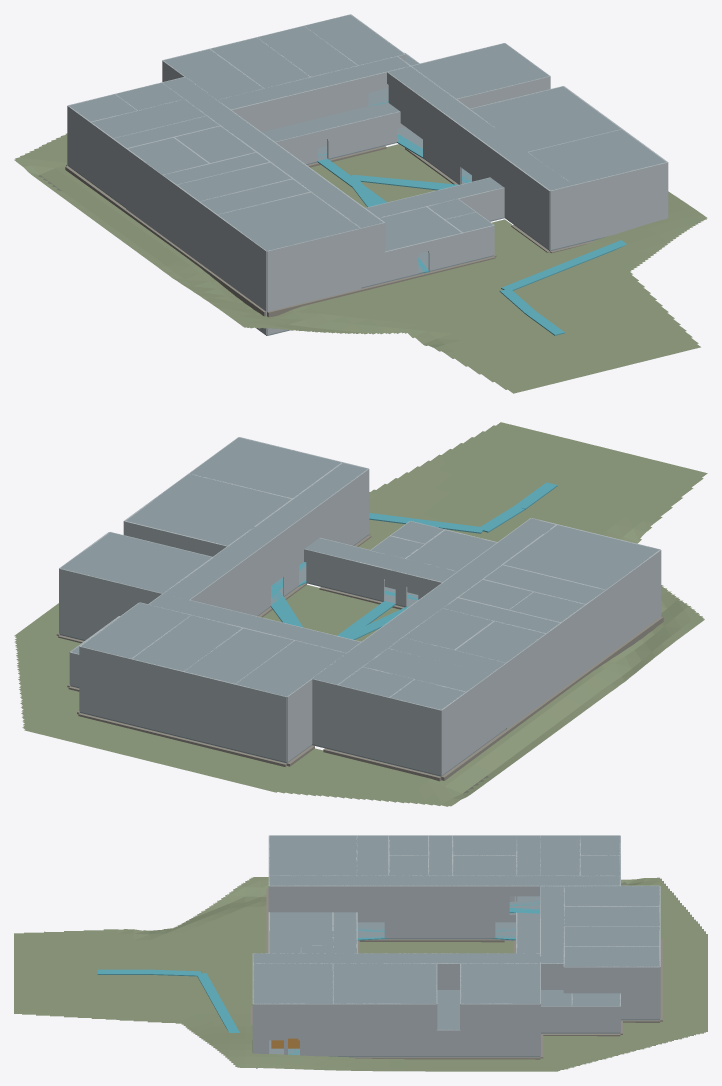
Rendered from open-circulation.glb.
The picture shows the model from 3 angles, top to bottom: view 1: azimuth 30°, elevation 25°; view 2: azimuth 150°, elevation 25°; view 3: azimuth 270°, elevation 25°; orthographic projection. The views are drawn at different scales.
Visible parts, largest first — view 1: Saved editor macroterrain ACADEMY, Ceiling cap study, Flat route shell Wall upper-east W, Ceiling cap upper-west, Ceiling cap upper-main-stair, Ceiling cap restricted, Ceiling cap upper-east-stair, Flat route shell Wall upper-north S, Ceiling cap upper-east, Wall upper-main-stair S, Wall upper-east-stair S, Wall main-stair S (+44 smaller); view 2: Saved editor macroterrain ACADEMY, Ceiling cap study, Ceiling cap upper-west, Flat route shell Wall upper-east W, Ceiling cap upper-main-stair, Ceiling cap restricted, Ceiling cap upper-east-stair, Ceiling cap upper-east, Ceiling cap dorm-1, Ceiling cap dorm-3, Ceiling cap dorm-4, Ceiling cap dorm-2 (+51 smaller); view 3: Saved editor macroterrain ACADEMY, Flat route shell Wall upper-west E.001, Ceiling cap study, Ceiling cap upper-main-stair, Flat route shell Wall west E.001, Ceiling cap upper-west, Ceiling cap restricted, Ceiling cap upper-east-stair, Ceiling cap upper-east, Wall study E, Wall lecture E, Wall dorm-4 E (+34 smaller).
Boxes of the visible parts, bbox=[...] form: Saved editor macroterrain ACADEMY: bbox=[14, 133, 707, 393]; Ceiling cap study: bbox=[470, 86, 620, 151]; Flat route shell Wall upper-east W: bbox=[387, 72, 550, 220]; Ceiling cap upper-west: bbox=[163, 77, 383, 228]; Ceiling cap upper-main-stair: bbox=[218, 192, 360, 250]; Ceiling cap restricted: bbox=[412, 43, 549, 98]; Ceiling cap upper-east-stair: bbox=[529, 129, 666, 184]; Flat route shell Wall upper-north S: bbox=[231, 70, 393, 131]; Ceiling cap upper-east: bbox=[388, 66, 572, 190]; Wall upper-main-stair S: bbox=[267, 228, 361, 280]; Wall upper-east-stair S: bbox=[574, 162, 667, 214]; Wall main-stair S: bbox=[267, 258, 361, 310]; Saved editor macroterrain ACADEMY: bbox=[14, 422, 707, 806]; Ceiling cap study: bbox=[126, 474, 291, 545]; Ceiling cap upper-west: bbox=[312, 518, 555, 684]; Flat route shell Wall upper-east W: bbox=[189, 469, 369, 607]; Ceiling cap upper-main-stair: bbox=[503, 525, 659, 589]; Ceiling cap restricted: bbox=[60, 532, 211, 593]; Ceiling cap upper-east-stair: bbox=[190, 437, 342, 498]; Ceiling cap upper-east: bbox=[163, 462, 367, 599]; Ceiling cap dorm-1: bbox=[236, 640, 346, 696]; Ceiling cap dorm-3: bbox=[132, 615, 241, 671]; Ceiling cap dorm-4: bbox=[81, 602, 190, 658]; Ceiling cap dorm-2: bbox=[185, 628, 293, 683]; Saved editor macroterrain ACADEMY: bbox=[14, 877, 707, 1071]; Flat route shell Wall upper-west E.001: bbox=[269, 885, 546, 912]; Ceiling cap study: bbox=[333, 963, 436, 1003]; Ceiling cap upper-main-stair: bbox=[269, 835, 356, 875]; Flat route shell Wall west E.001: bbox=[357, 912, 515, 938]; Ceiling cap upper-west: bbox=[269, 876, 620, 885]; Ceiling cap restricted: bbox=[460, 963, 540, 1003]; Ceiling cap upper-east-stair: bbox=[253, 963, 332, 1003]; Ceiling cap upper-east: bbox=[253, 953, 540, 963]; Wall study E: bbox=[333, 1003, 436, 1030]; Wall lecture E: bbox=[333, 1030, 436, 1056]; Wall dorm-4 E: bbox=[564, 966, 659, 993].
Bounding box in the file's own units: 58 × 10.36 × 87.
